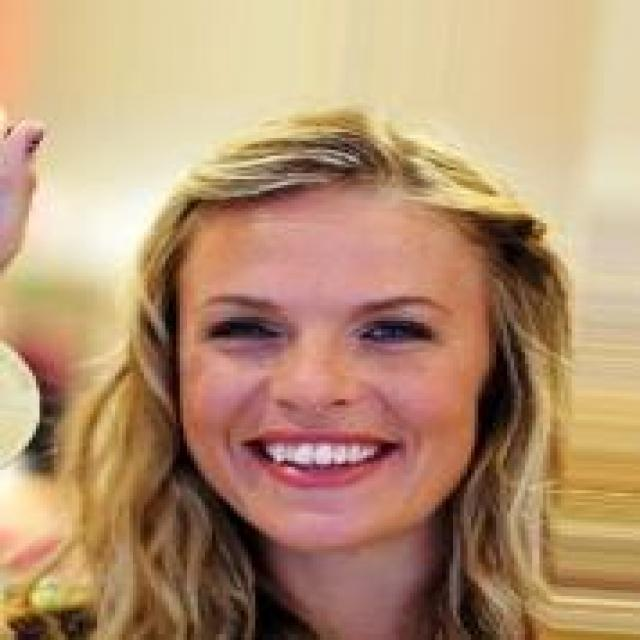nomask: (115, 91, 561, 549)
